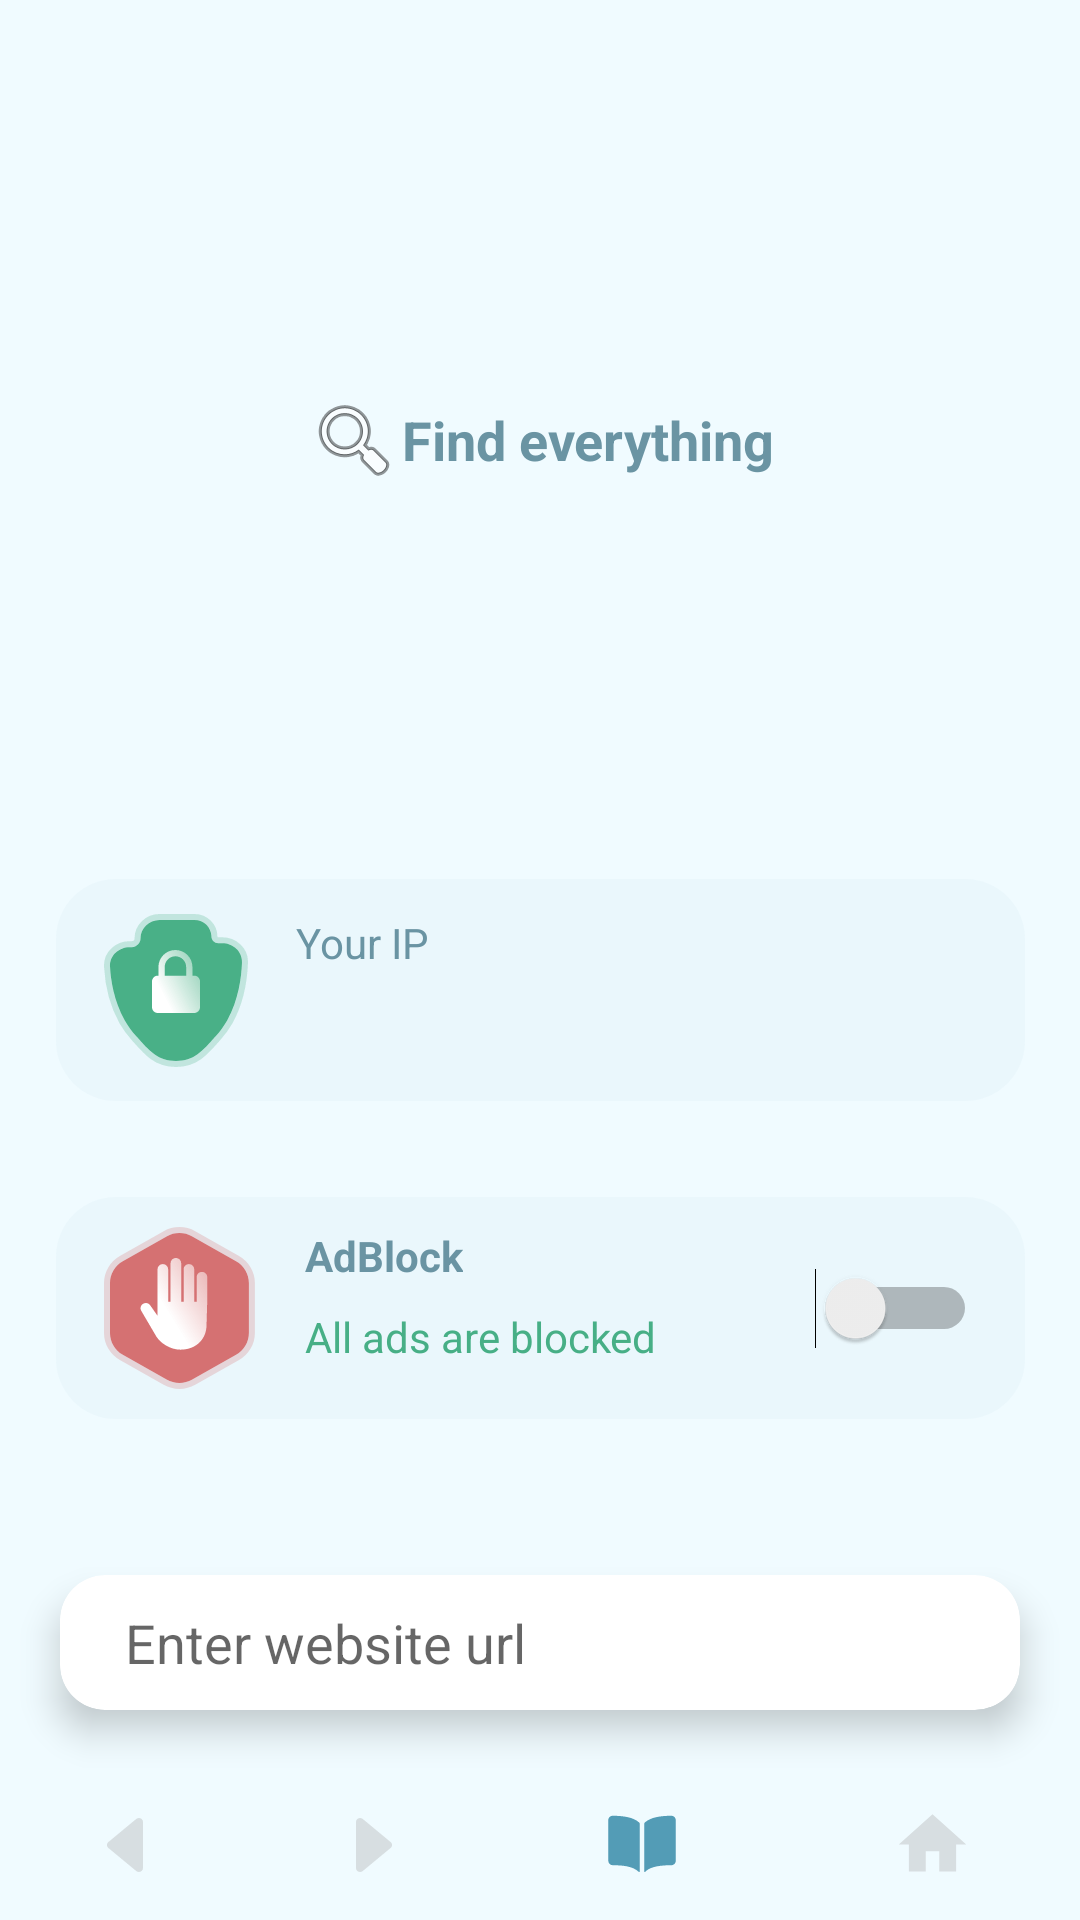

Icons on this 1080 x 1920 Android screen, each with its box as (x1, y1, x2, y2):
history: (608, 1815, 676, 1872)
home: (900, 1815, 965, 1871)
left: (107, 1818, 143, 1872)
right: (356, 1818, 392, 1872)
search: (318, 405, 390, 476)
stop: (104, 1227, 255, 1389)
